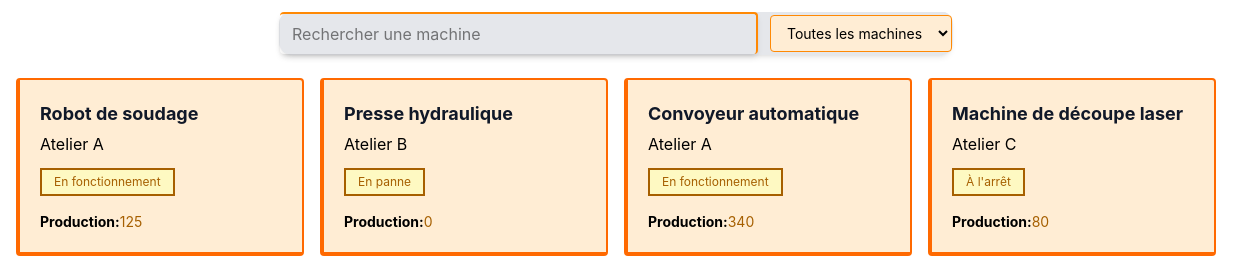
it: Machines page filtering › filters by status
Select "En panne" in the dropdown at [861, 33], box [770,14,952,52]
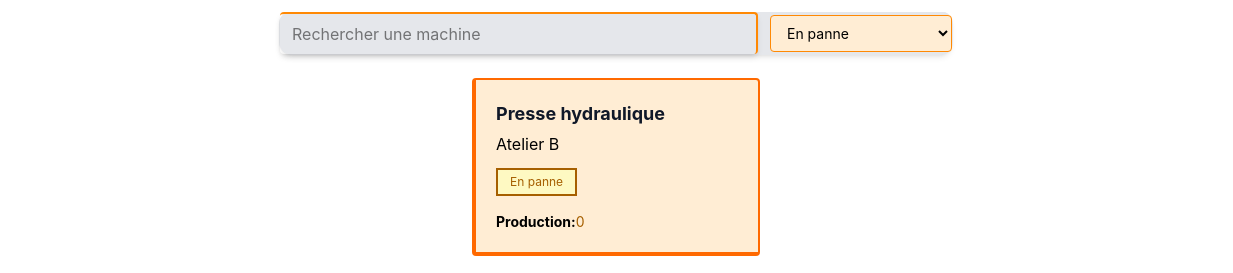
Expected: the heading "Presse hydraulique" is shown, [496,103,665,124]
Now the heading "Robot de soudage" is gone
